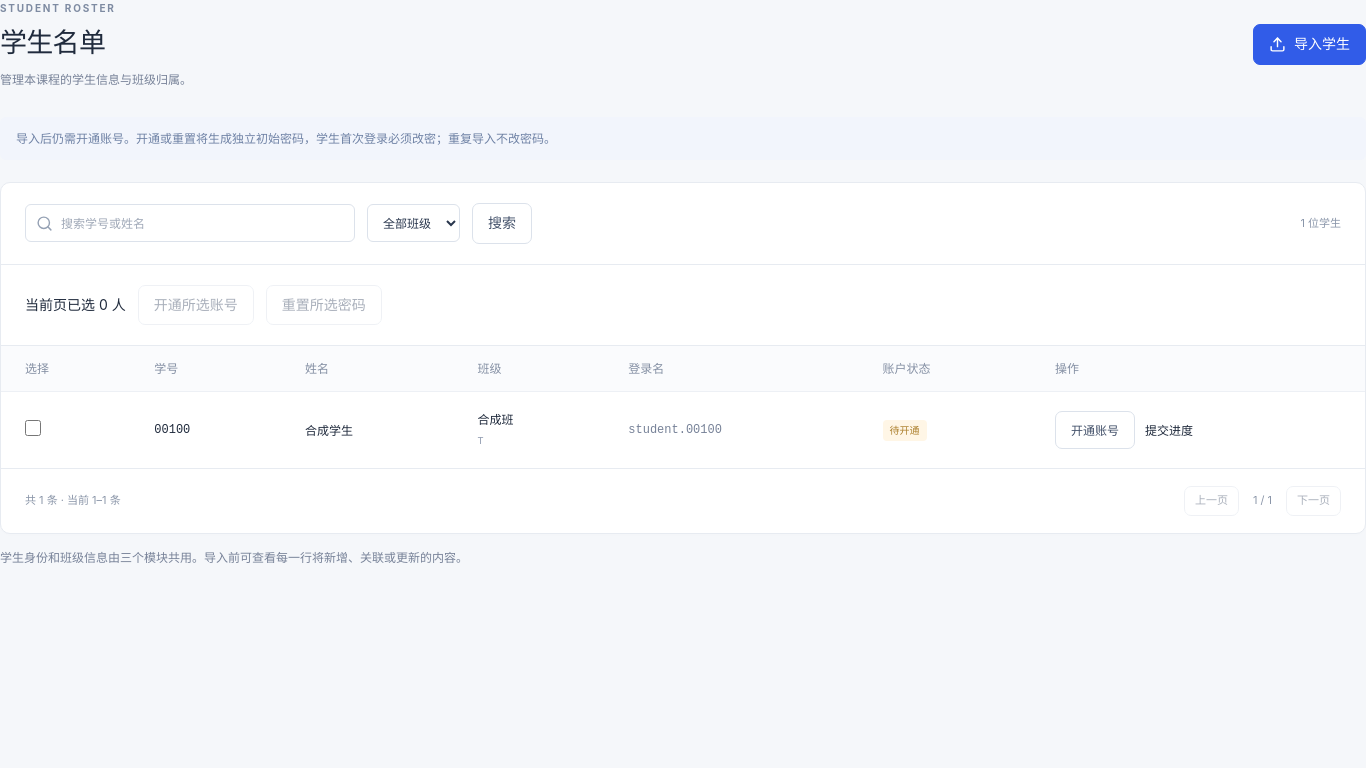
Test: issues only after confirmation with the exact account revision and clears one-time plaintext
Click the button "开通账号".
click(1095, 430)  # box [1055,411,1135,449]
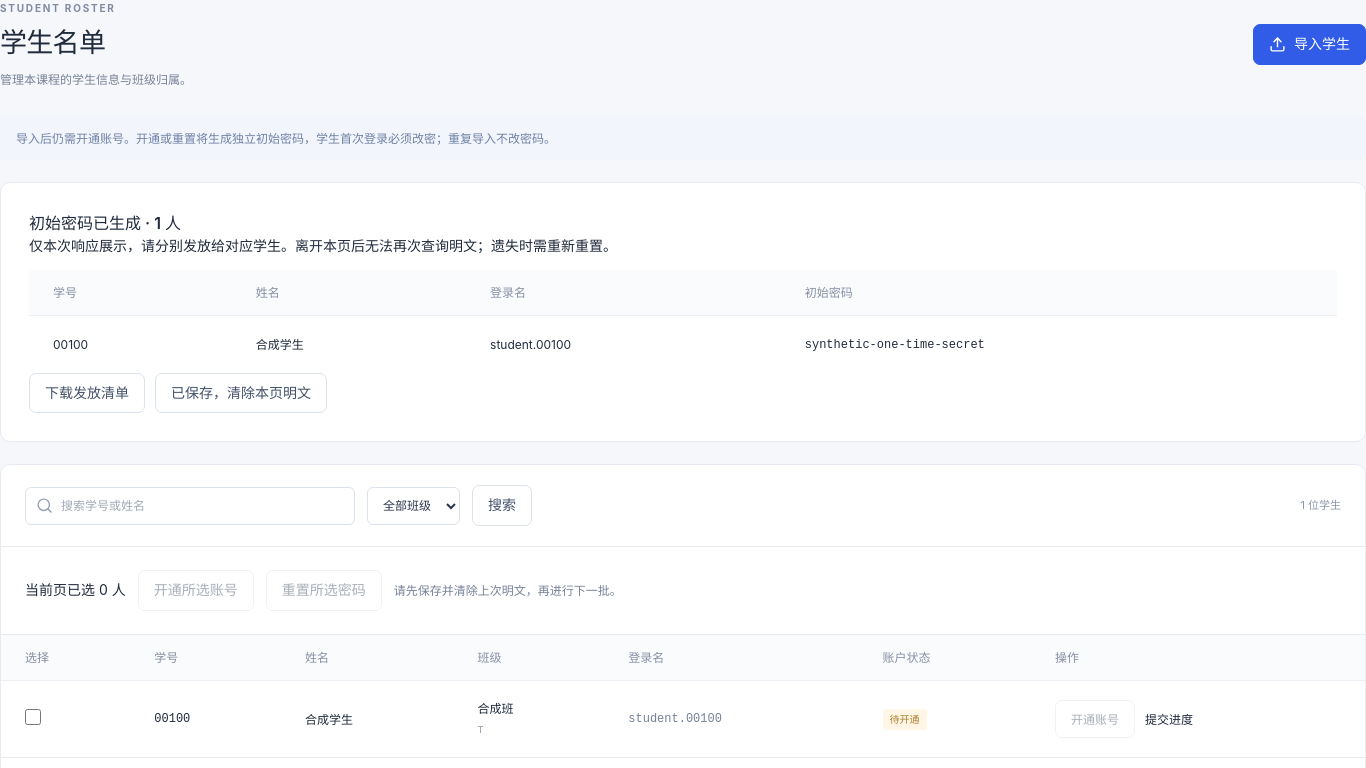
Expected: the text "synthetic-one-time-secret" is shown, [805,338,985,352]
Expected: the button "开通账号" is disabled, [1055,700,1135,738]
Click the button "已保存，清除本页明文".
click(241, 393)  # box [155,373,327,413]
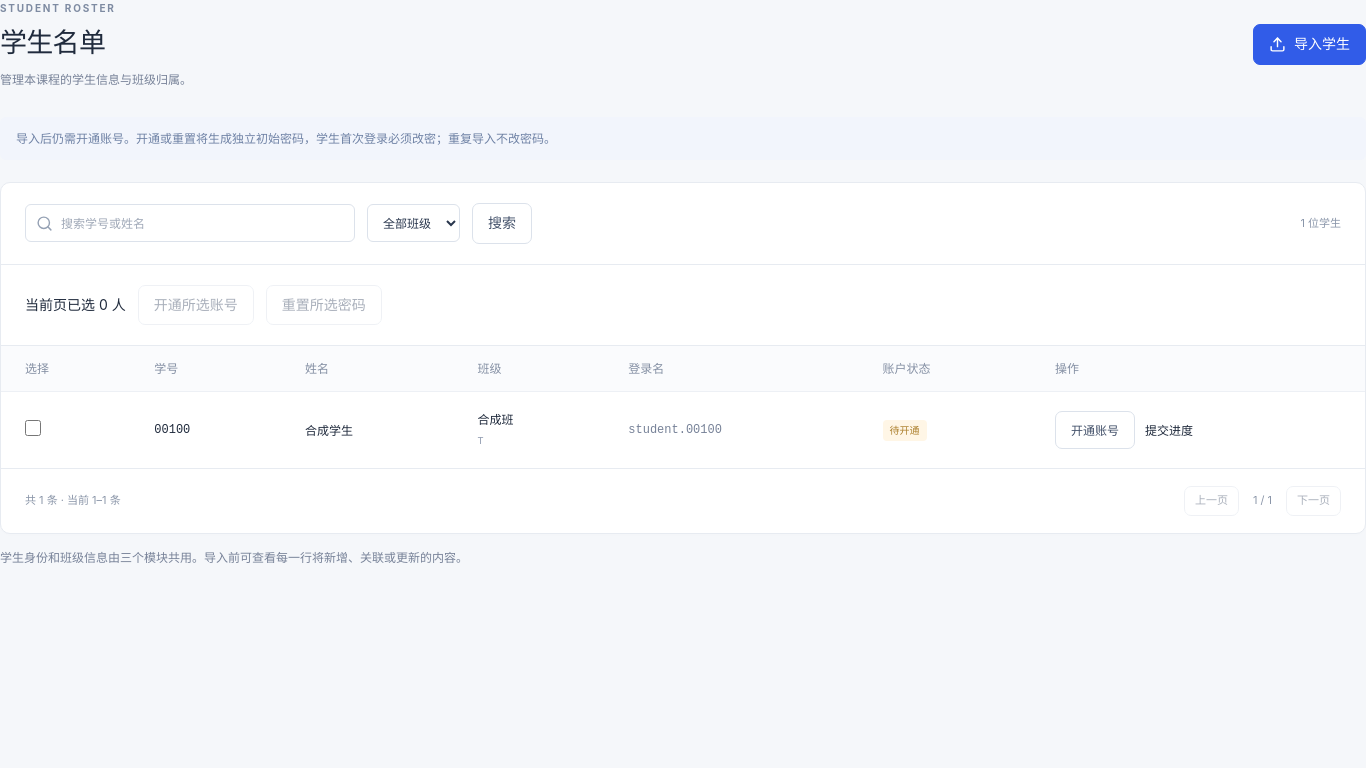
Expected: the text "synthetic-one-time-secret" is gone
